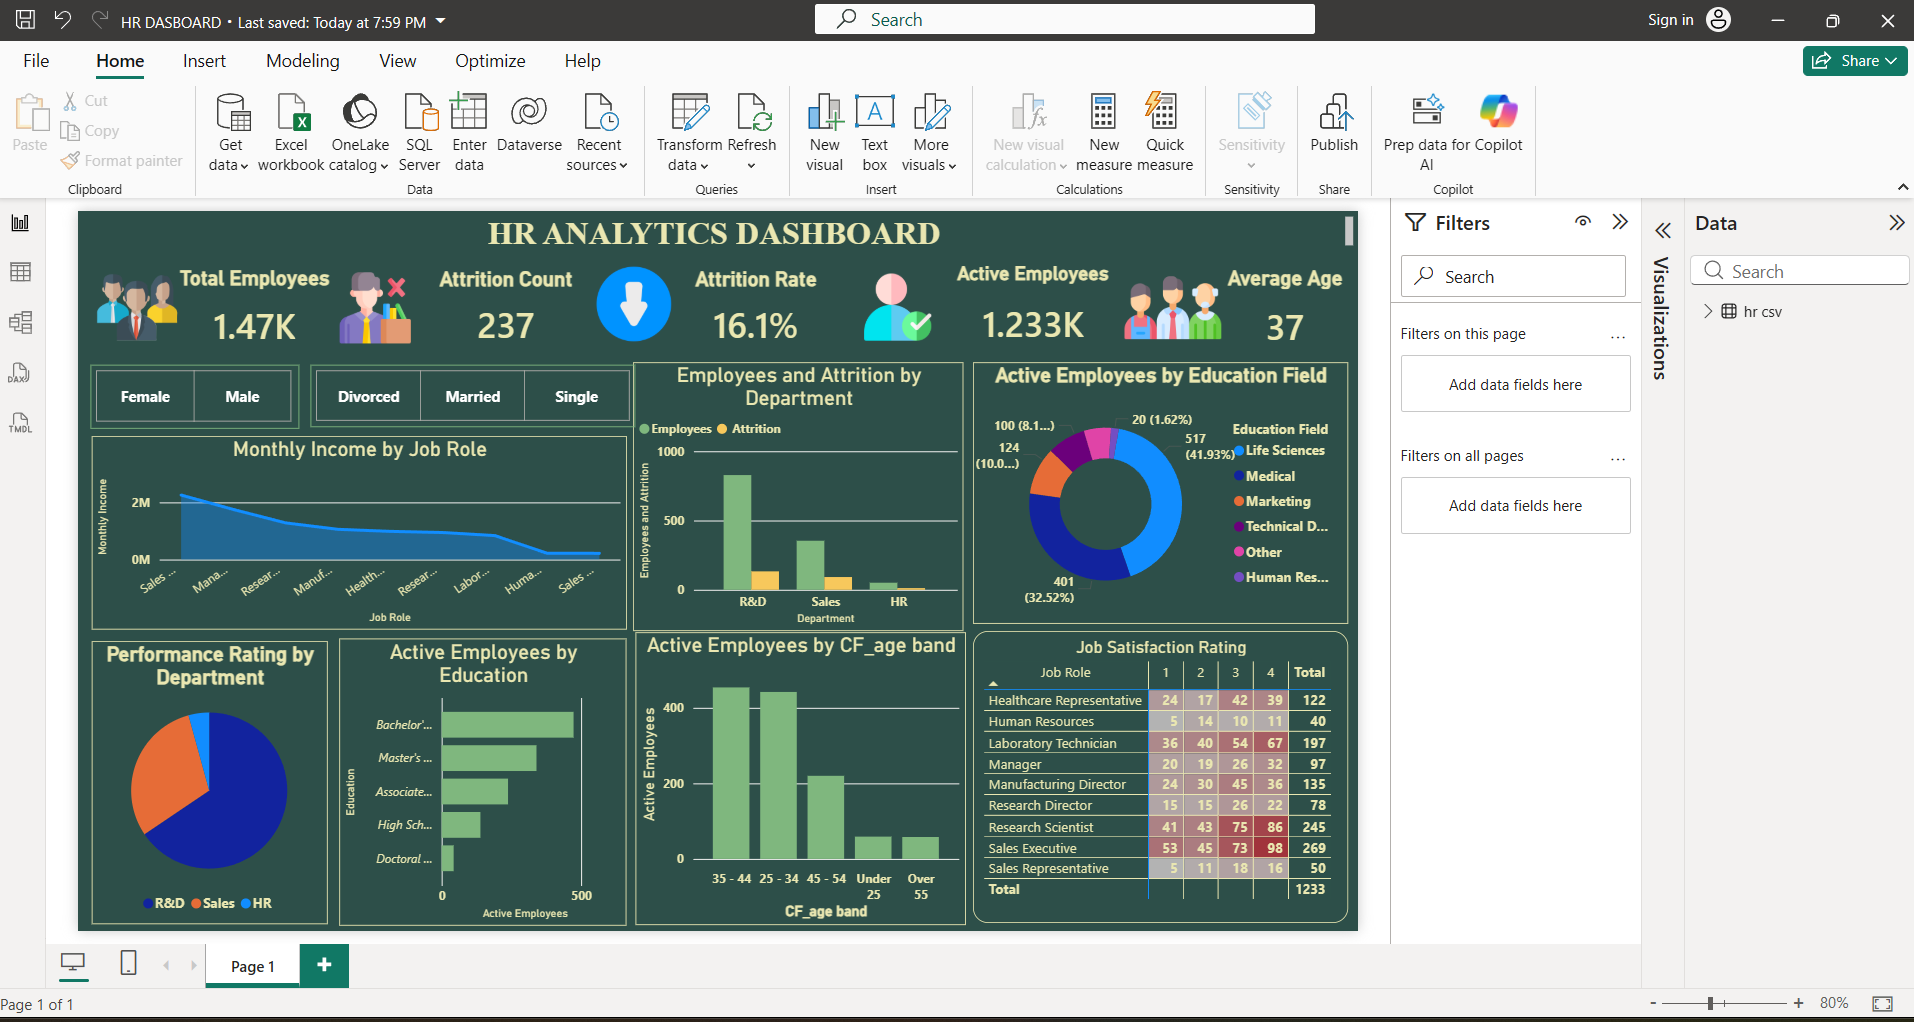

Layout of this report page (visuals, bound fields, positions):
{"tool":"powerbi","page":{"name":"Page 1","canvas":[1280,720],"ordinal":0},"visuals":[{"type":"cardVisual","title":"Total Employees","fields":{"Data":["CountNonNull(hr csv.Employee Count)"]},"box":[92.5,55,168.8,91.2],"z":0},{"type":"cardVisual","title":"Attrition Count","fields":{"Data":["Sum(hr csv.Attrition Count)"]},"box":[348.6,55.7,158.6,88.6],"z":1000},{"type":"cardVisual","title":"Attrition Rate","fields":{"Data":["hr csv.Attrition Rate"]},"box":[603.8,56.2,148.8,88.8],"z":2000},{"type":"cardVisual","title":"Active Employees","fields":{"Data":["hr csv.Active Employees"]},"box":[867.5,51.2,175,97.5],"z":3000},{"type":"cardVisual","title":"Average Age","fields":{"Data":["Avg(hr csv.Age)"]},"box":[1135.6,55.1,144.7,95.1],"z":4000},{"type":"image","box":[1042.5,48.8,105,96.2],"z":5000},{"type":"image","box":[752.9,62.9,134.3,67.1],"z":6000},{"type":"image","box":[231.4,61.4,131.4,71.4],"z":7000},{"type":"image","box":[1.2,55,116.2,82.5],"z":8000},{"type":"image","box":[507.2,55.1,96.5,75.8],"z":9000},{"type":"clusteredColumnChart","title":" Employees and Attrition by Department","fields":{"Category":["hr csv.Department"],"Y":["hr csv.Active Employees","Sum(hr csv.Attrition Count)"]},"box":[555.4,151.6,330.8,268.7],"z":10000},{"type":"donutChart","fields":{"Category":["hr csv.Education Field"],"Y":["hr csv.Active Employees"]},"box":[895,151.2,375,261.2],"z":11000},{"type":"columnChart","fields":{"Category":["hr csv.CF_age band"],"Y":["hr csv.Active Employees"]},"box":[557.1,421.4,330,292.9],"z":12000},{"type":"pivotTable","title":"Job Satisfaction Rating","fields":{"Rows":["hr csv.Job Role"],"Columns":["hr csv.Job Satisfaction"],"Values":["hr csv.Active Employees"]},"box":[894.4,420.3,374.9,292.2],"z":13000},{"type":"pieChart","title":"Performance Rating by Department","fields":{"Y":["Sum(hr csv.Performance Rating)"],"Category":["hr csv.Department"]},"box":[14.3,430,235.7,282.9],"z":14000},{"type":"barChart","fields":{"Category":["hr csv.Education"],"Y":["hr csv.Active Employees"]},"box":[261.4,427.1,287.1,287.1],"z":15000},{"type":"areaChart","fields":{"Category":["hr csv.Job Role"],"Y":["Sum(hr csv.Monthly Income)"]},"box":[13.8,225,535,193.8],"z":16000},{"type":"advancedSlicerVisual","fields":{"Values":["hr csv.Marital Status"]},"box":[232.5,153.8,325,62.5],"z":18000},{"type":"advancedSlicerVisual","fields":{"Values":["hr csv.Gender"]},"box":[12.5,153.8,208.8,63.8],"z":18001},{"type":"textbox","box":[0,0,1280,42.9],"z":18002}]}

Visuals, with their boxes in screenshot pixels (x1, y1, x2, y2):
"Total Employees" cardVisual: (x1=189, y1=55, x2=434, y2=187)
"Attrition Count" cardVisual: (x1=561, y1=56, x2=791, y2=184)
"Attrition Rate" cardVisual: (x1=931, y1=57, x2=1147, y2=185)
"Active Employees" cardVisual: (x1=1314, y1=49, x2=1567, y2=191)
"Average Age" cardVisual: (x1=1703, y1=55, x2=1913, y2=193)
image: (x1=1567, y1=46, x2=1720, y2=185)
image: (x1=1147, y1=66, x2=1342, y2=164)
image: (x1=391, y1=64, x2=581, y2=168)
image: (x1=57, y1=55, x2=225, y2=175)
image: (x1=791, y1=55, x2=931, y2=165)
" Employees and Attrition by Department" clusteredColumnChart: (x1=861, y1=195, x2=1341, y2=585)
donutChart - hr csv.Education Field x hr csv.Active Employees: (x1=1353, y1=194, x2=1898, y2=573)
columnChart - hr csv.CF_age band x hr csv.Active Employees: (x1=863, y1=587, x2=1342, y2=1012)
"Job Satisfaction Rating" pivotTable: (x1=1353, y1=585, x2=1897, y2=1009)
"Performance Rating by Department" pieChart: (x1=76, y1=599, x2=418, y2=1009)
barChart - hr csv.Education x hr csv.Active Employees: (x1=434, y1=595, x2=851, y2=1011)
areaChart - hr csv.Job Role x Sum(hr csv.Monthly Income): (x1=75, y1=302, x2=851, y2=583)
advancedSlicerVisual - hr csv.Marital Status: (x1=392, y1=198, x2=864, y2=289)
advancedSlicerVisual - hr csv.Gender: (x1=73, y1=198, x2=376, y2=291)
textbox: (x1=55, y1=0, x2=1912, y2=37)
